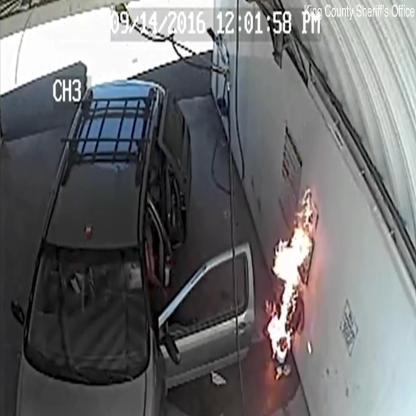fire: (267, 184, 311, 362)
